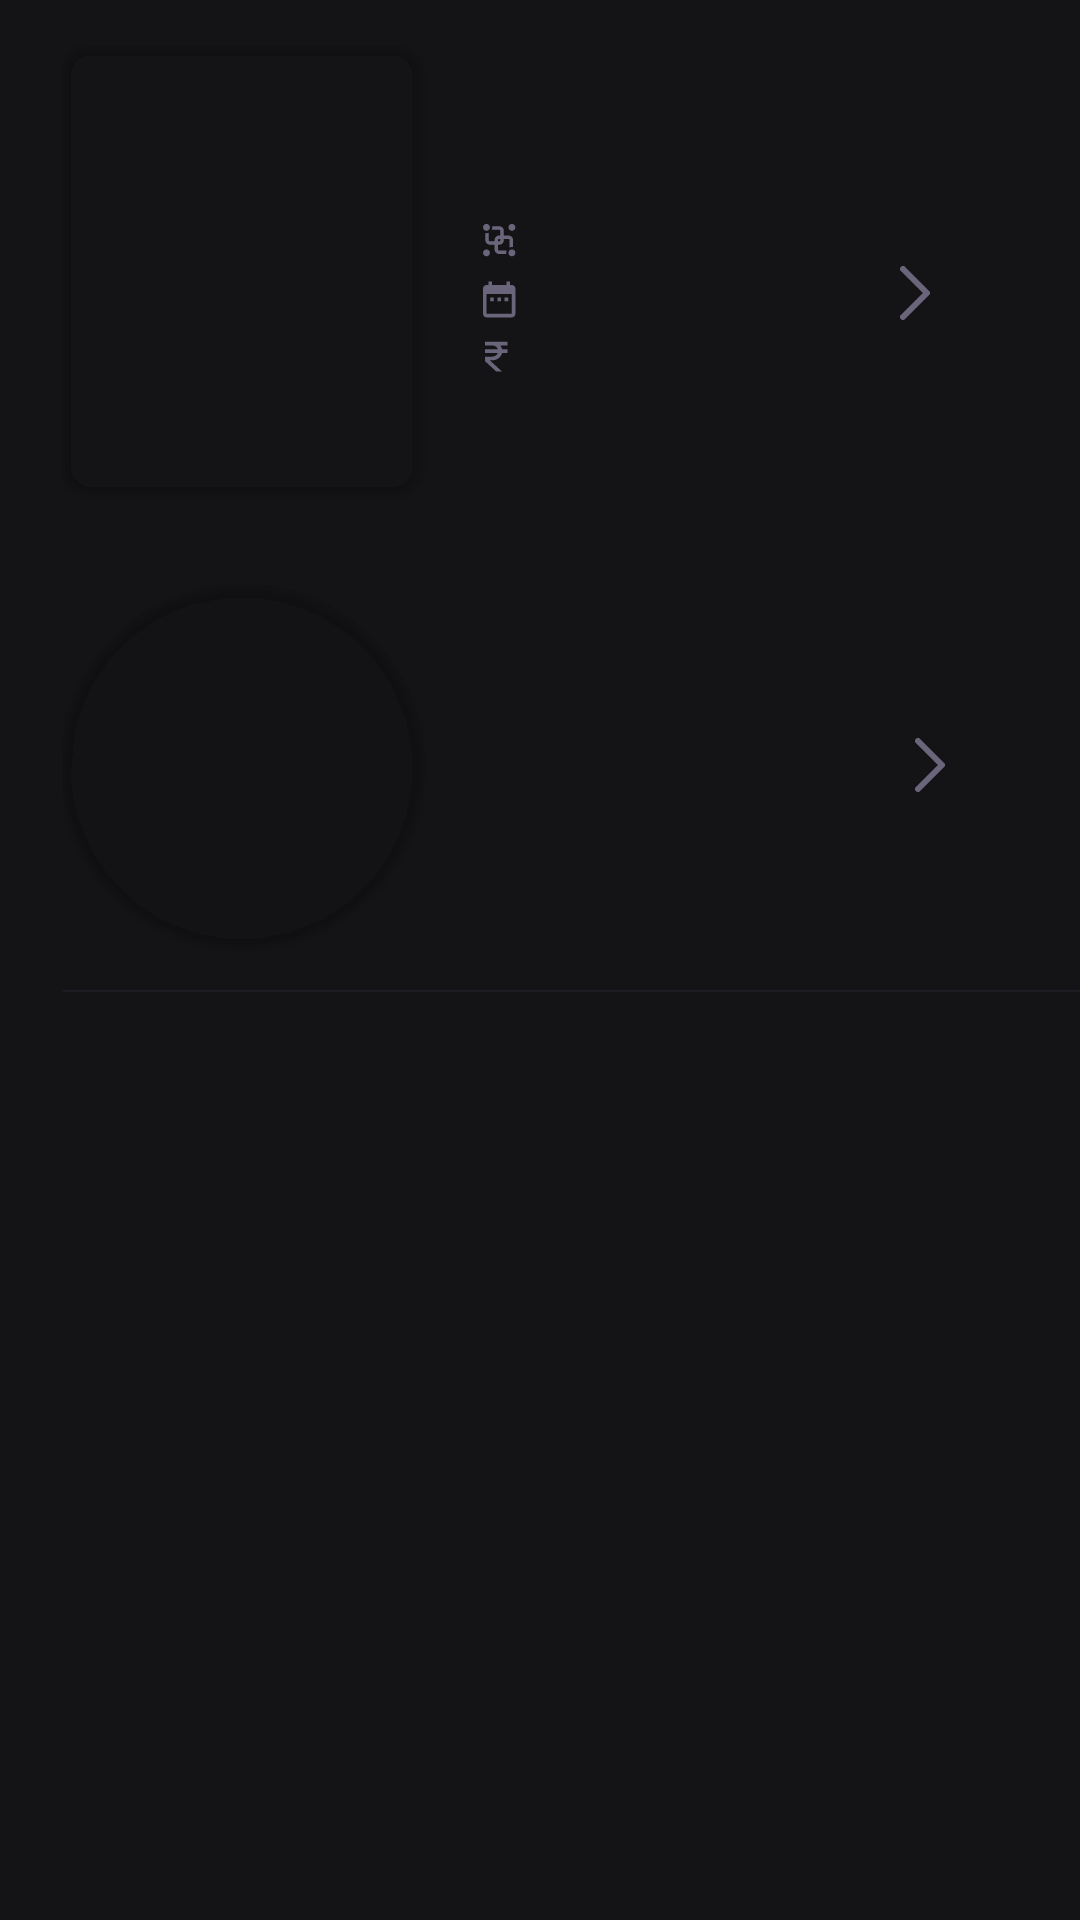

Icons on this 1080 × 1920 Android screen, each with the point to tap as point (x, y):
searchcalendar: point (499, 299)
searchruppee: point (496, 356)
